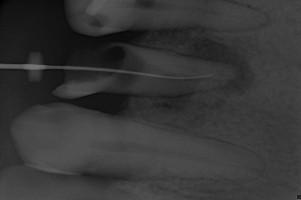Furcation Involvement: (187, 35, 256, 93), (151, 93, 195, 114)
